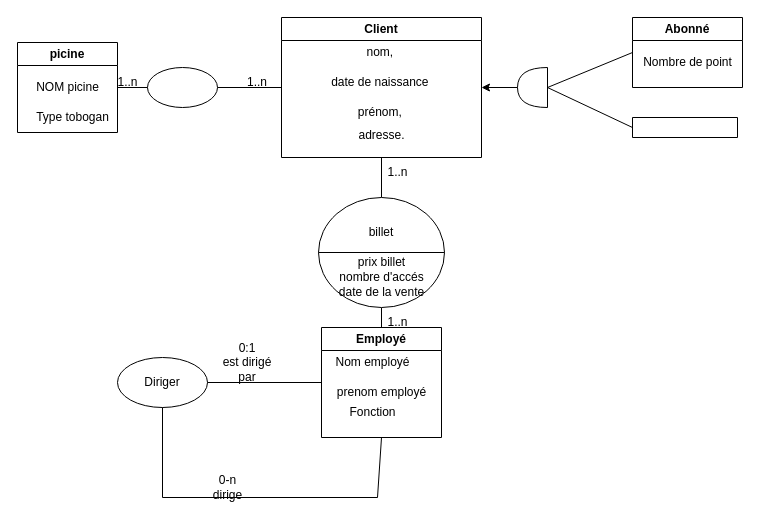
Image size: 760x525. Some labels were removed from this diagram. The shapes that lost their labels are listed below. From the top down, each one's centre as x and y in pixels, then its label:
(x=182, y=87): Accéder
(x=685, y=127): Visiteur
